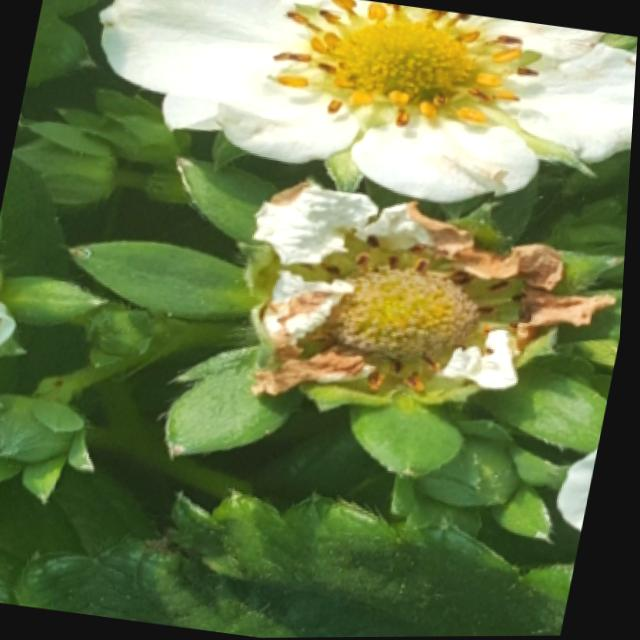Blossom Blight: (295, 229, 535, 396), (270, 0, 540, 136)
